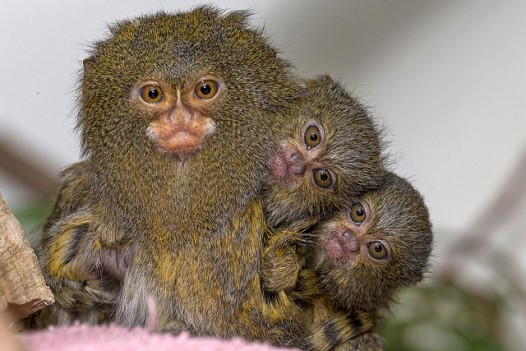PygmyMarmoset: (86, 18, 284, 334), (316, 191, 439, 303), (271, 88, 378, 208)
